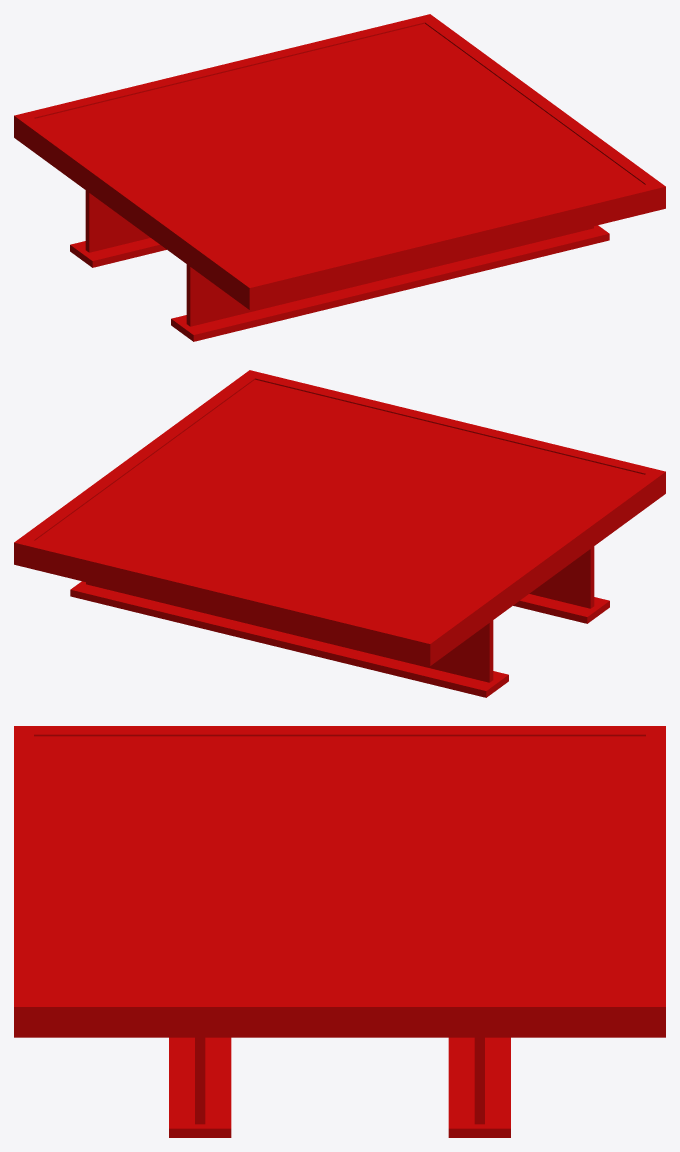
The picture shows the model from 3 angles, top to bottom: view 1: azimuth 30°, elevation 25°; view 2: azimuth 150°, elevation 25°; view 3: azimuth 270°, elevation 25°; orthographic projection. The views are drawn at different scales.
Parts seen in each view (by area): view 1: Mesh; view 2: Mesh; view 3: Mesh.
Boxes of the visible parts, left/top/right/bottom form: Mesh: left=14, top=14, right=665, bottom=341; Mesh: left=14, top=370, right=665, bottom=697; Mesh: left=14, top=726, right=665, bottom=1137.
Bounding box in the file's own units: 3.06 × 0.6658 × 3.
